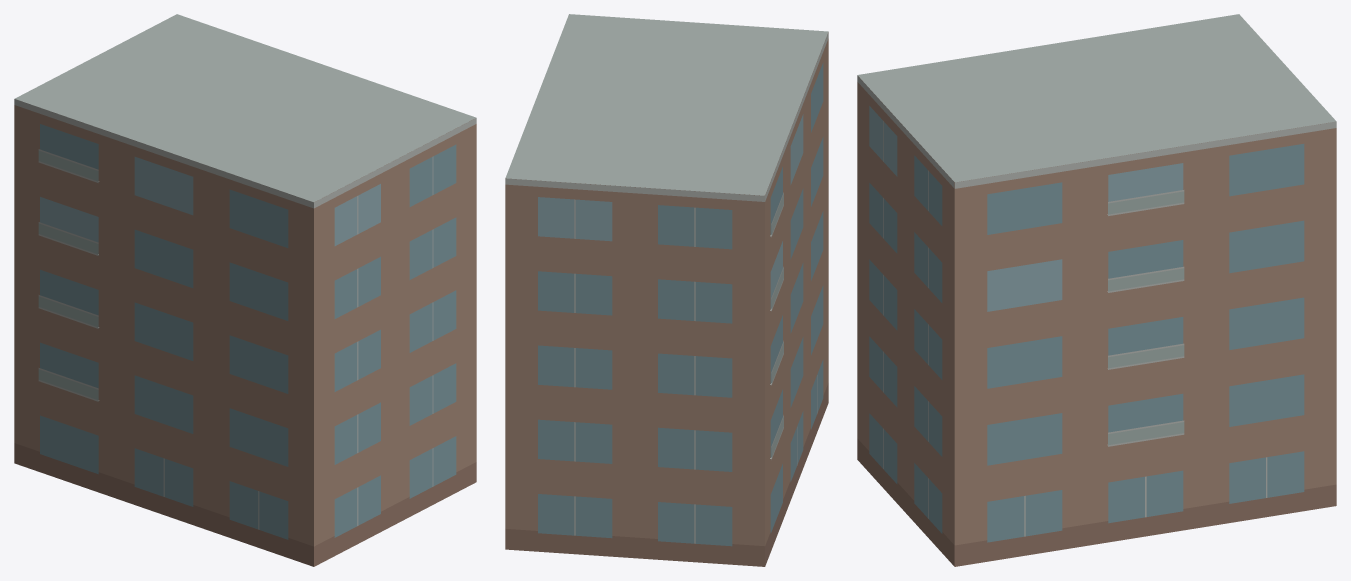
Rendered from survey-upis-32857415.glb.
The picture shows the model from 3 angles, left to right: view 1: azimuth 30°, elevation 25°; view 2: azimuth 150°, elevation 25°; view 3: azimuth 270°, elevation 25°; orthographic projection. The views are drawn at different scales.
Parts seen in each view (by area): view 1: survey-upis-32857415.tmp; view 2: survey-upis-32857415.tmp; view 3: survey-upis-32857415.tmp.
Part boxes in pixels (box(x1,y1,x2,y2)): survey-upis-32857415.tmp: box(14, 14, 476, 566); survey-upis-32857415.tmp: box(505, 14, 828, 566); survey-upis-32857415.tmp: box(857, 14, 1336, 566).
Bounding box in the file's own units: 13.63 × 14.5 × 16.4.
